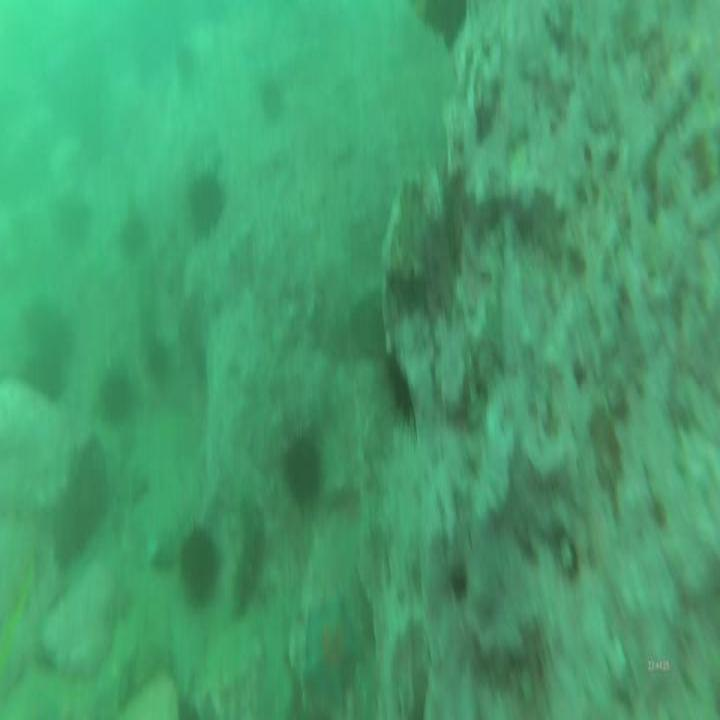echinus: (41, 478, 102, 572), (378, 336, 417, 434), (178, 517, 219, 610), (282, 437, 325, 521), (186, 169, 229, 240), (97, 365, 136, 428), (115, 208, 154, 268), (21, 350, 62, 402), (56, 198, 94, 252), (260, 78, 285, 126)
starfish: (301, 588, 366, 714)
